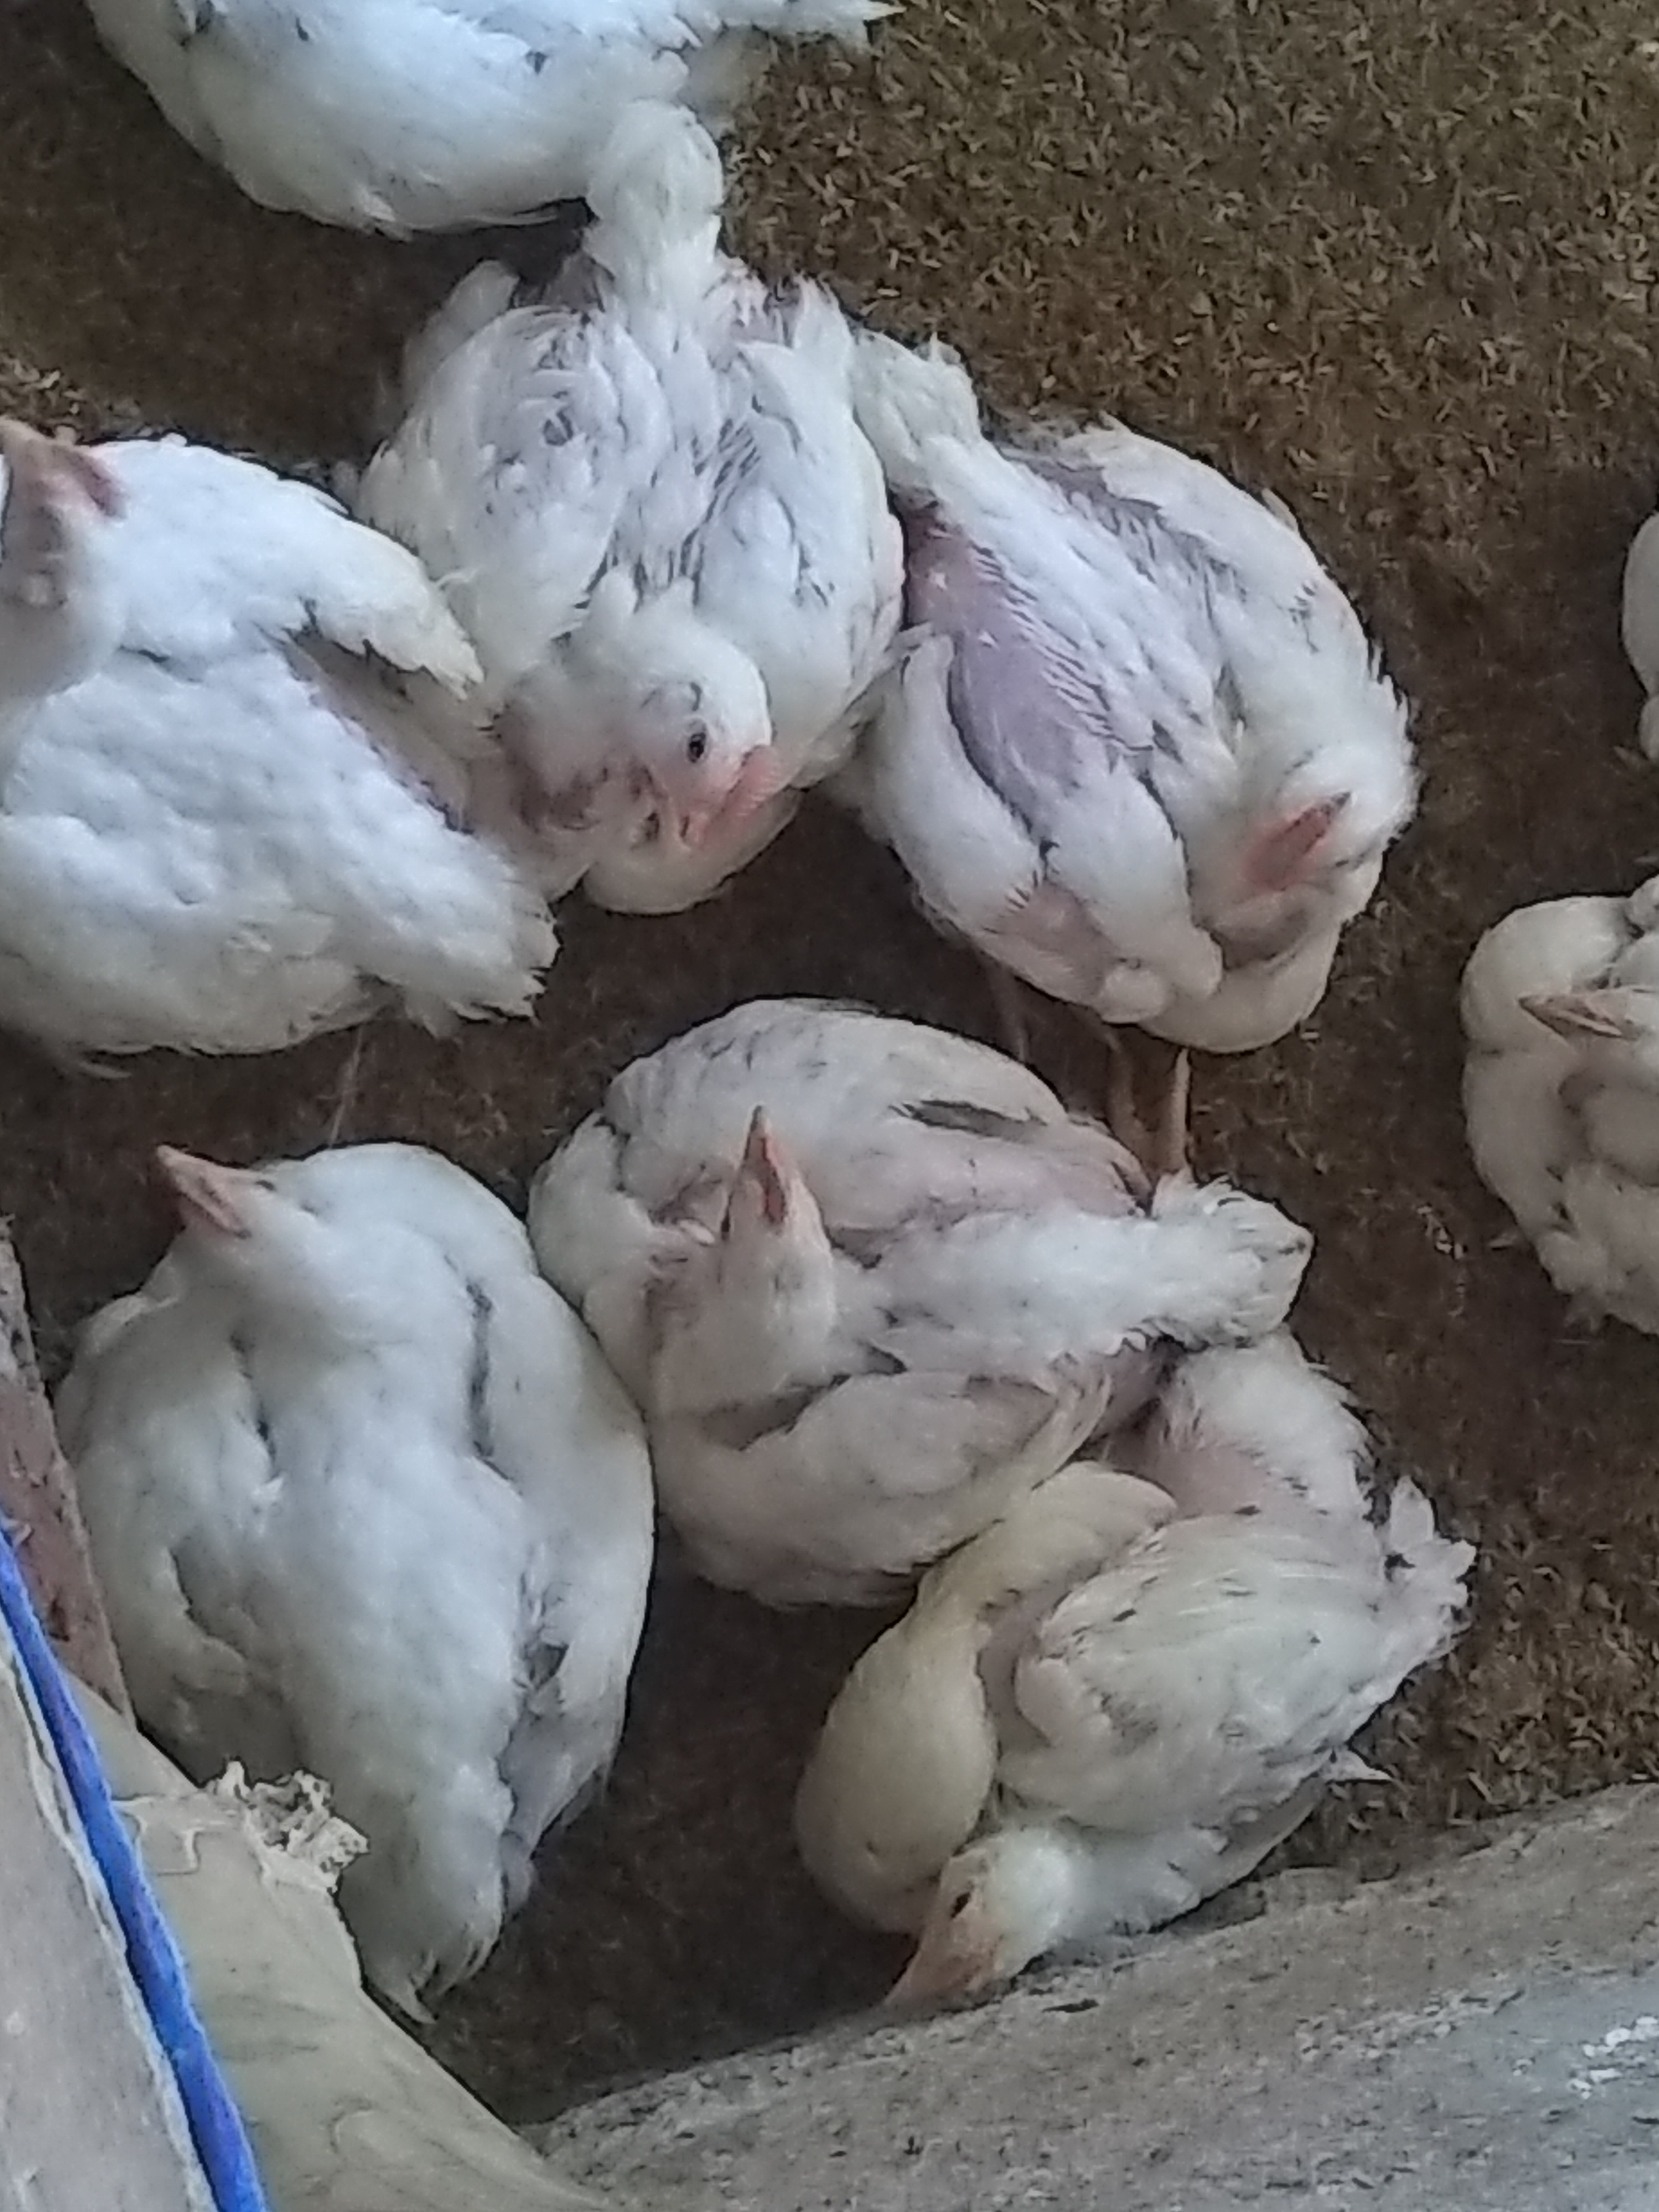Pollos: (58, 1120, 626, 2008), (617, 1008, 1324, 1538), (892, 359, 1425, 1049), (408, 214, 897, 913), (5, 359, 484, 1068), (786, 1552, 1474, 2041), (44, 0, 971, 286), (1460, 815, 1659, 1362)
